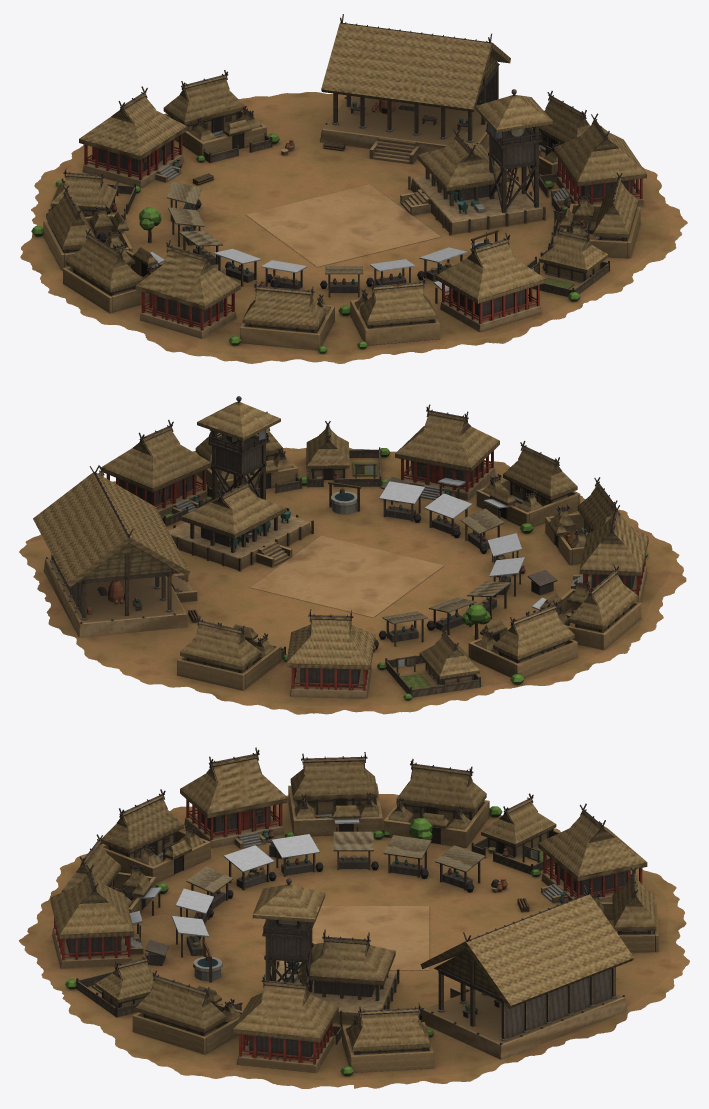
The model's file is bronze-town-medium-a-sinic-f837eaa0.glb.
3 renders of one model, top to bottom at view 1: azimuth 30°, elevation 25°; view 2: azimuth 150°, elevation 25°; view 3: azimuth 270°, elevation 25°, orthographic. The views are drawn at different scales.
Visible parts, largest first — view 1: LOD0; view 2: LOD0; view 3: LOD0.
Part boxes in pixels (<box>): LOD0: <box>20,14,687,363</box>; LOD0: <box>19,396,686,714</box>; LOD0: <box>19,747,689,1088</box>.
Size of what is drawn, in the model's own units: 5.92 by 1.23 by 5.6.
Materials: 3 (3 with a texture image).
